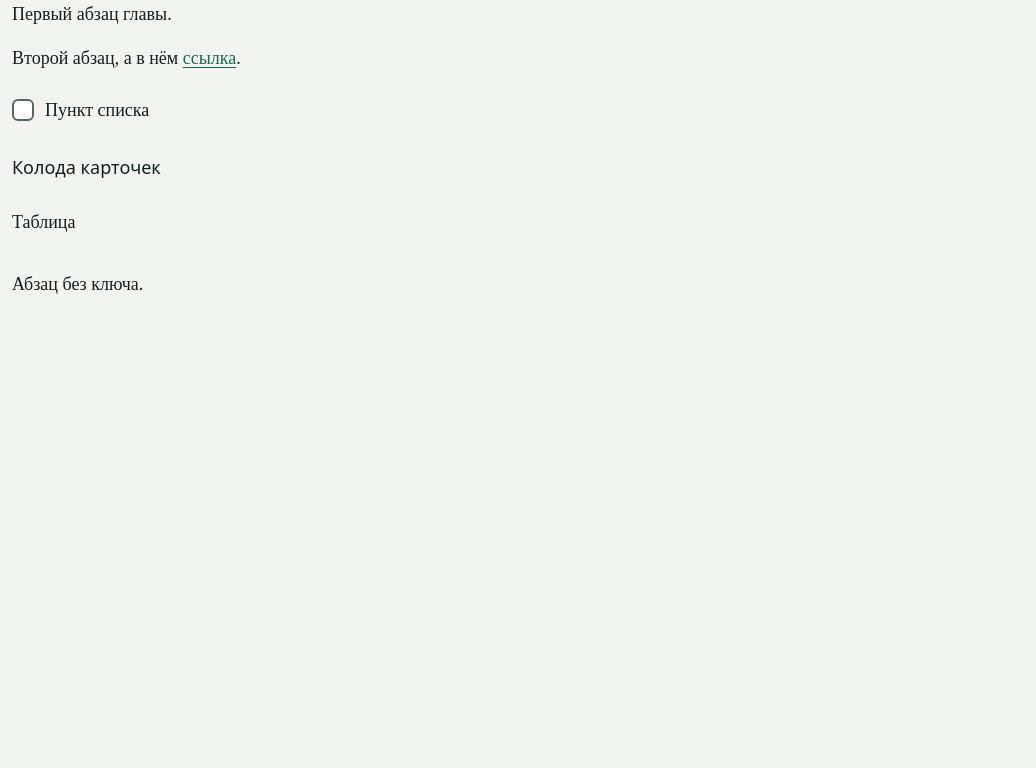
Test case: BlockActions: выбор абзаца › нажатие мимо, ✕ и Esc закрывают панель и снимают выделение
Later steps or results of the test are not shown.
Click the text "Первый абзац главы." at (92,14), box [12,4,172,24]
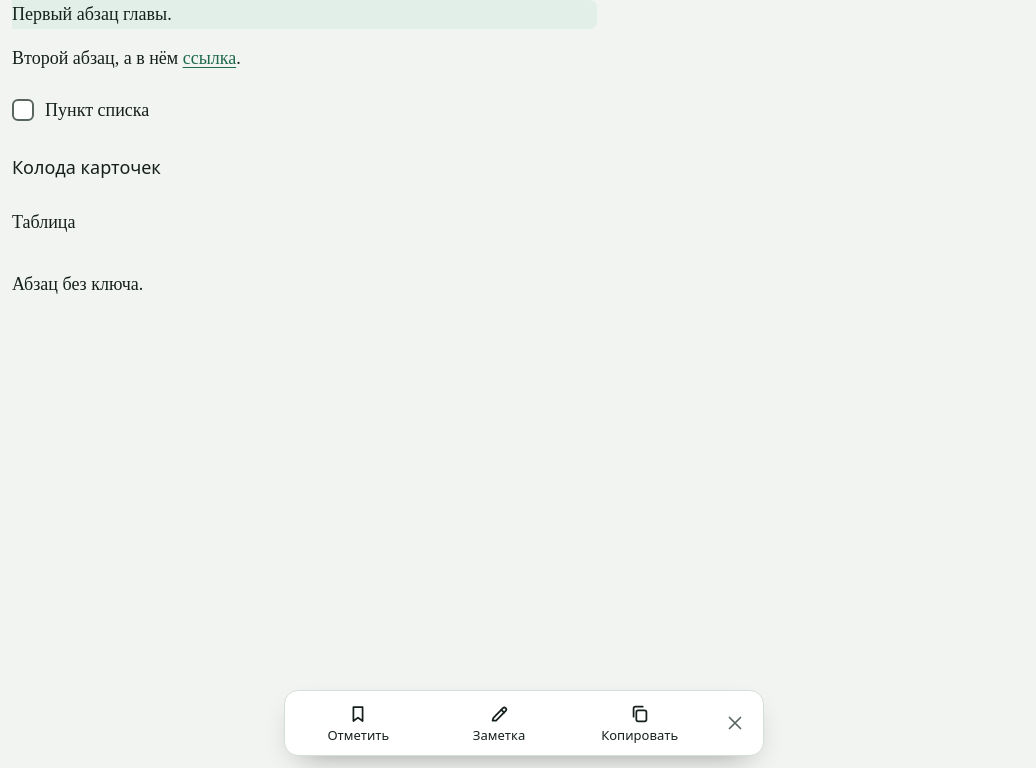
Click the element that starts with "Отметить" at (516,384), box [12,0,1021,767]
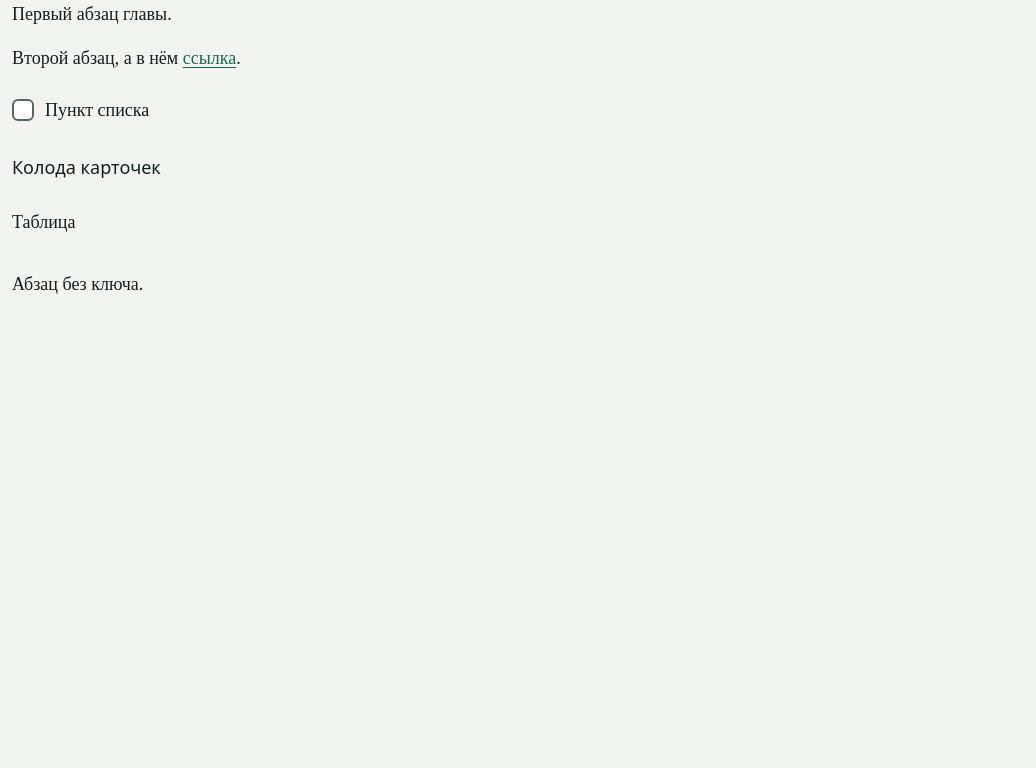
Result: the element with class "bact" is gone
Click the text "Первый абзац главы." at (92,14), box [12,4,172,24]
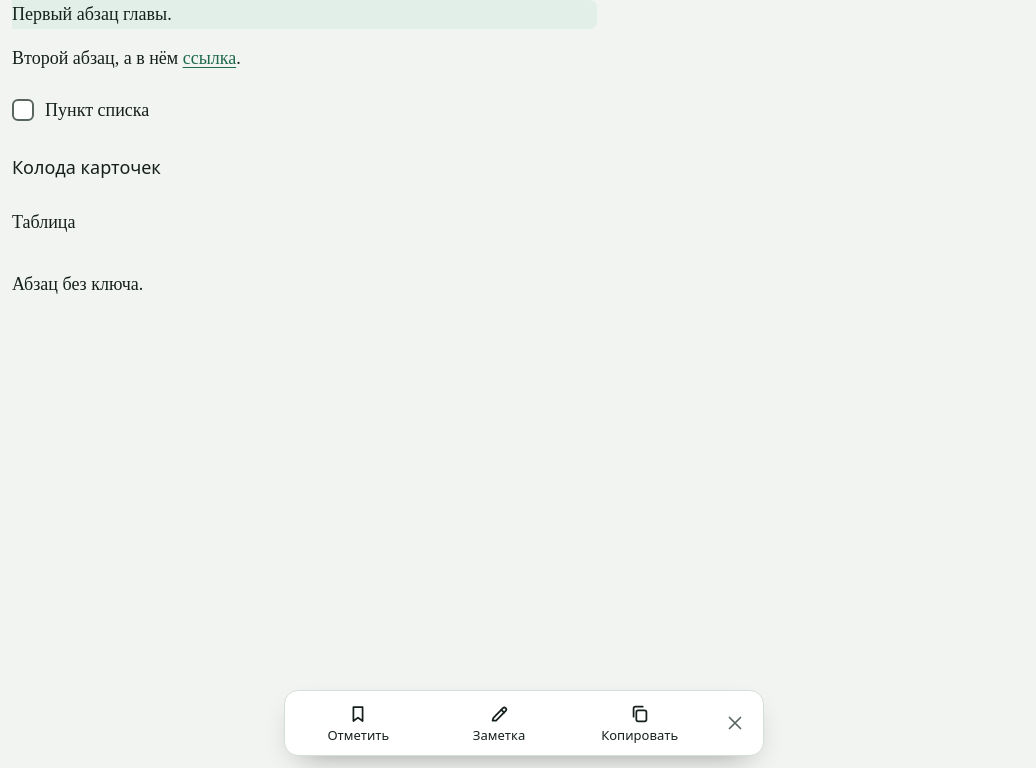
Click the button with class "bact__close" at (735,723), box [711,695,759,751]
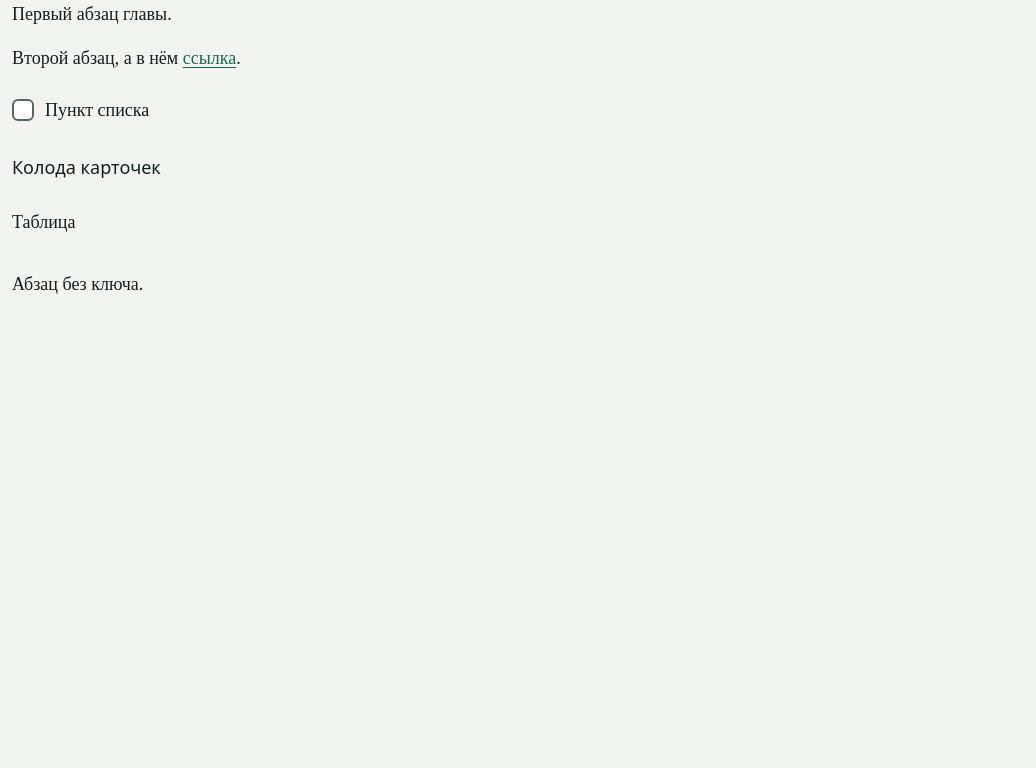
Result: the element with class "bact" is gone
